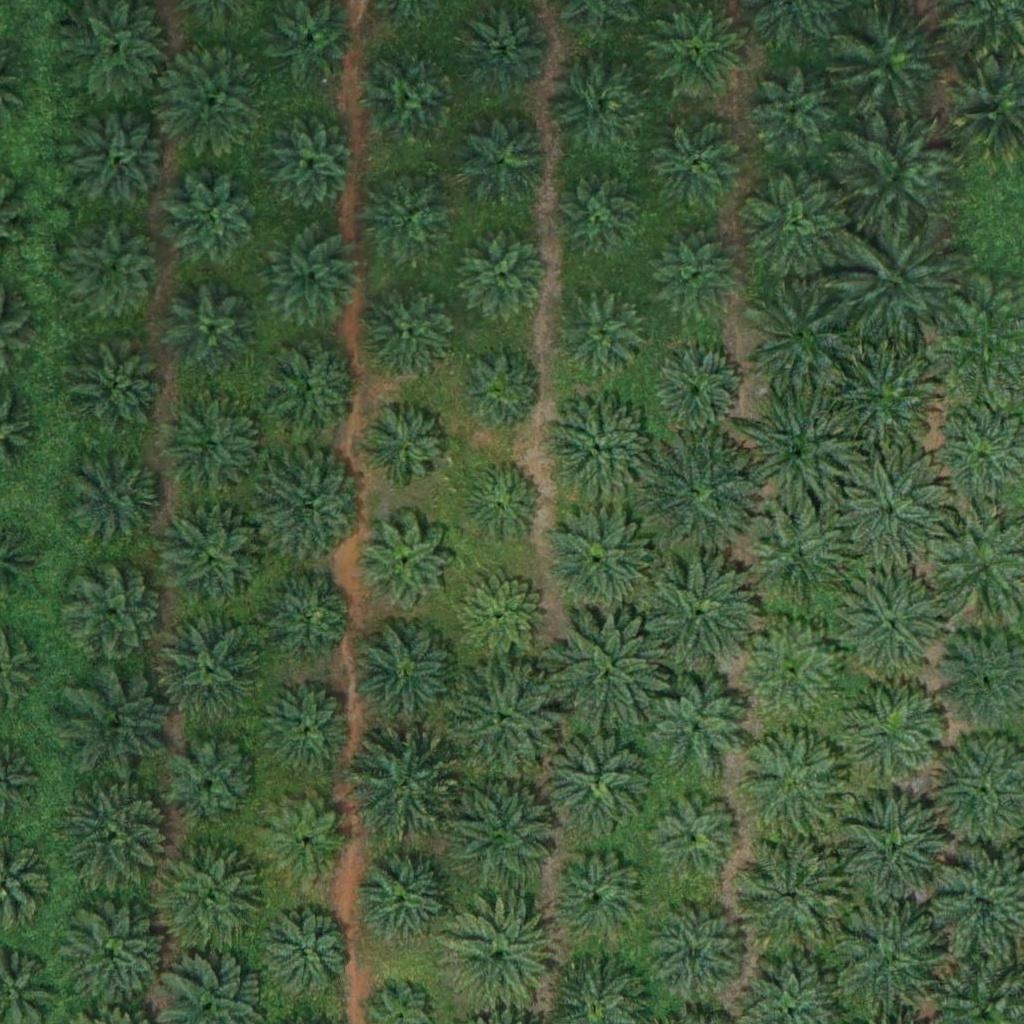Kelapa_Sawit: (844, 118, 957, 232), (844, 225, 957, 339), (155, 502, 268, 616), (255, 448, 368, 562), (352, 618, 465, 732), (344, 731, 457, 845), (158, 43, 271, 156), (63, 101, 176, 214), (61, 783, 174, 896), (56, 902, 169, 1015), (350, 840, 463, 953), (442, 902, 555, 1015), (541, 391, 654, 504), (542, 507, 655, 620), (645, 440, 758, 553), (643, 558, 756, 671), (739, 730, 852, 843), (731, 839, 844, 952), (824, 340, 937, 453), (836, 907, 949, 1020), (829, 2, 941, 116), (450, 663, 562, 777), (447, 775, 559, 889), (544, 843, 656, 957), (740, 169, 852, 282), (747, 283, 859, 396), (257, 218, 369, 331), (61, 662, 173, 775), (154, 609, 266, 722), (151, 840, 263, 953), (551, 613, 663, 726), (545, 726, 657, 839), (742, 398, 854, 511), (744, 500, 856, 613), (833, 459, 945, 572), (834, 570, 946, 683), (839, 794, 951, 907), (648, 110, 748, 211), (549, 55, 649, 156), (453, 110, 553, 211), (358, 167, 458, 268), (359, 280, 459, 381), (259, 117, 359, 218), (162, 168, 262, 269), (63, 558, 163, 659), (160, 729, 260, 830), (644, 675, 744, 776), (740, 621, 840, 722), (840, 681, 940, 782), (645, 2, 745, 102), (66, 215, 166, 315), (66, 337, 166, 437), (71, 445, 171, 545), (163, 393, 263, 493), (257, 567, 357, 667), (257, 681, 357, 781), (354, 513, 454, 613), (647, 904, 747, 1004), (650, 231, 738, 319), (655, 348, 743, 436), (552, 173, 640, 261), (262, 913, 350, 1001), (361, 404, 449, 492), (459, 458, 547, 546), (456, 572, 544, 660), (559, 290, 646, 379), (459, 230, 546, 319), (750, 66, 837, 154), (365, 52, 452, 140), (167, 288, 254, 376), (267, 343, 354, 431), (262, 797, 349, 885), (457, 346, 544, 434), (653, 794, 740, 882)
